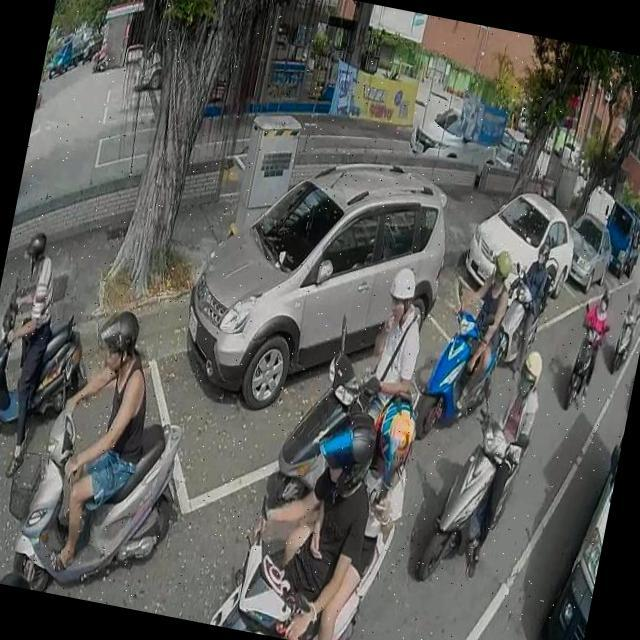person: (29, 294, 168, 588), (269, 386, 422, 640), (226, 400, 386, 640), (457, 336, 548, 586), (0, 220, 73, 466), (351, 264, 438, 430), (439, 236, 515, 414), (505, 239, 562, 375), (568, 287, 616, 396), (613, 280, 640, 368), (0, 555, 46, 591), (94, 36, 110, 68)
